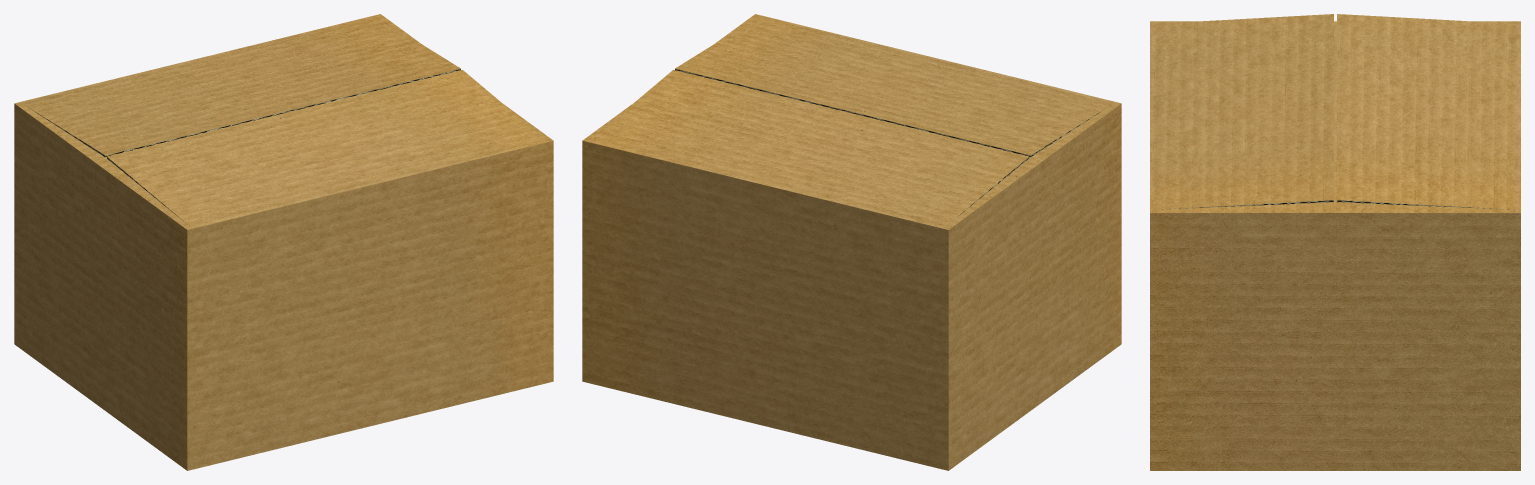
Rendered from cardboardBox.gltf.
3 renders of one model, left to right at view 1: azimuth 30°, elevation 25°; view 2: azimuth 150°, elevation 25°; view 3: azimuth 270°, elevation 25°, orthographic. The views are drawn at different scales.
Visible parts, largest first — view 1: Box006; view 2: Box006; view 3: Box006.
Part boxes in pixels (x1=…): Box006: x1=14, y1=14, x2=553, y2=470; Box006: x1=582, y1=14, x2=1121, y2=470; Box006: x1=1150, y1=14, x2=1520, y2=470.
Bounding box in the file's own units: 0.35 × 0.2286 × 0.2864.
